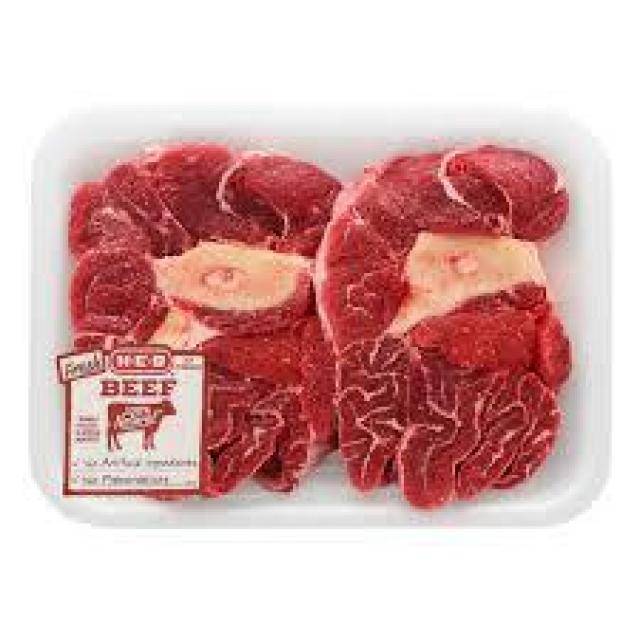beef: (337, 118, 576, 518)
